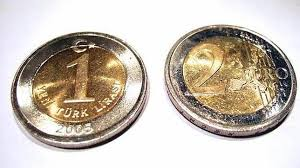eur002: (162, 22, 297, 140)
